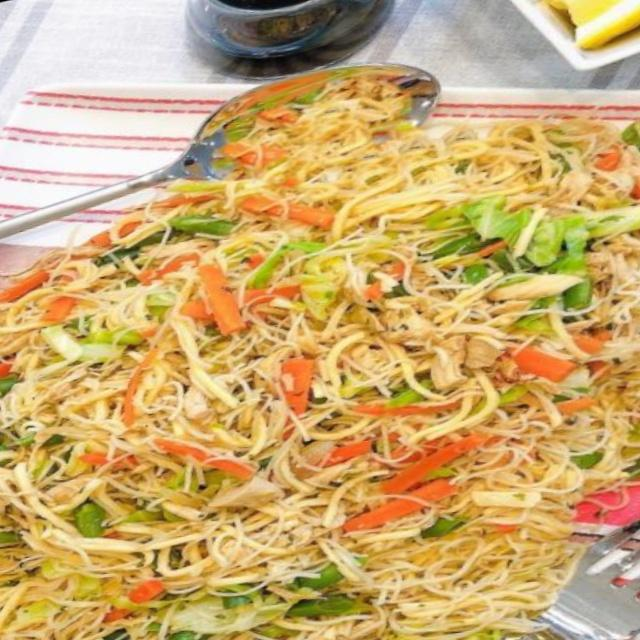pancit bihon: (0, 102, 639, 639)
